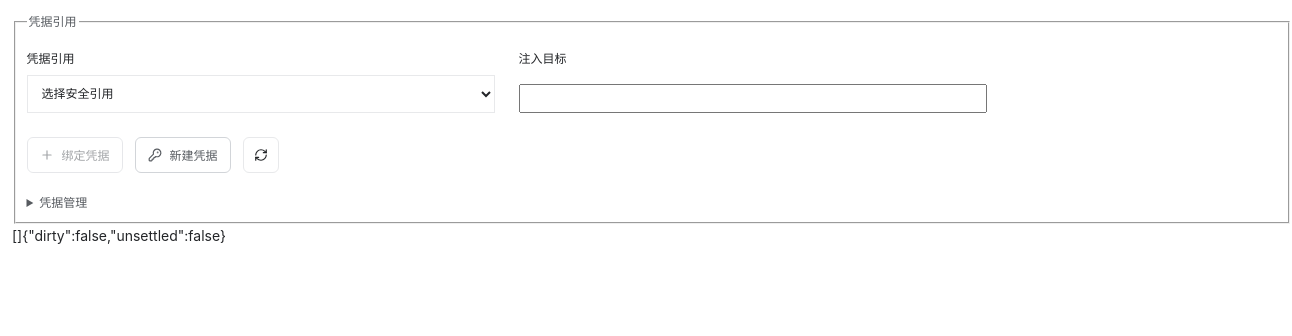
Scenario: safe credential selection and original managed write › binds an exact same-workspace active Ref and explicit destination, then unbinds without revoking
Select "Controlled API credential · active" in the dropdown labelled "凭据引用" at (260,94), box [26,76,494,114]
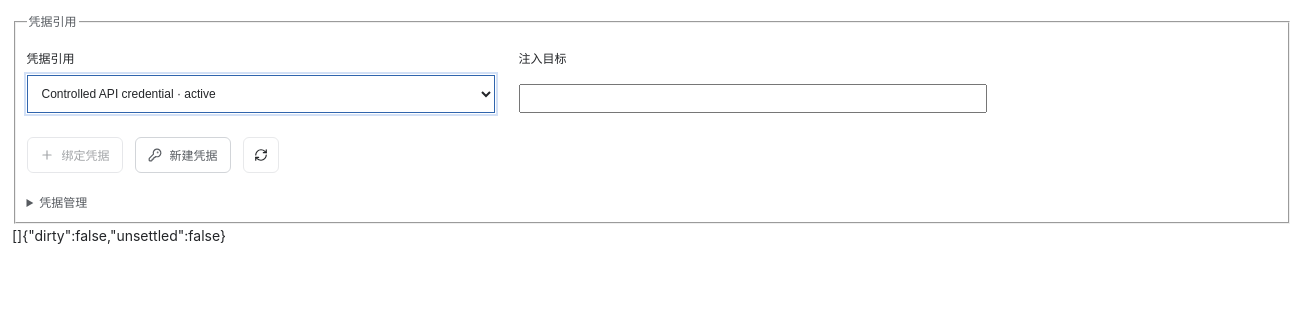
Type "SERVICE_API_KEY" into the field labelled "注入目标".
click(752, 99); type("SERVICE_API_KEY")  # box [518,84,986,114]
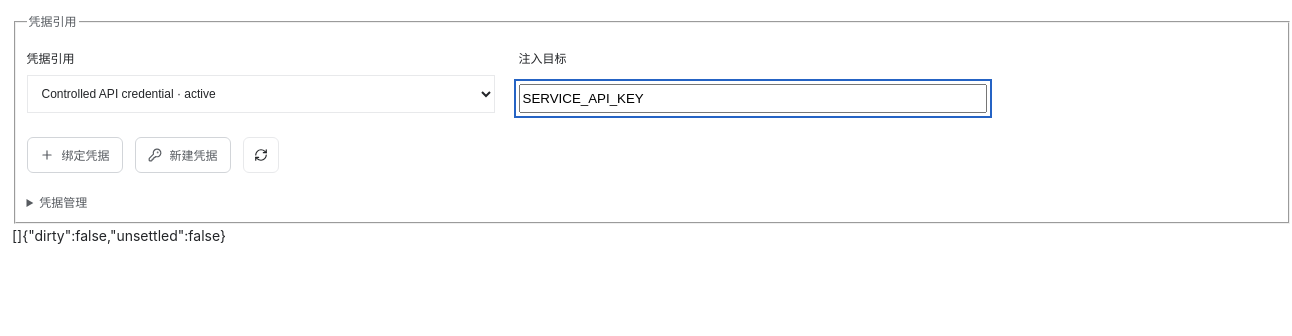
Click the button "绑定凭据".
click(74, 156)  # box [26,138,122,174]
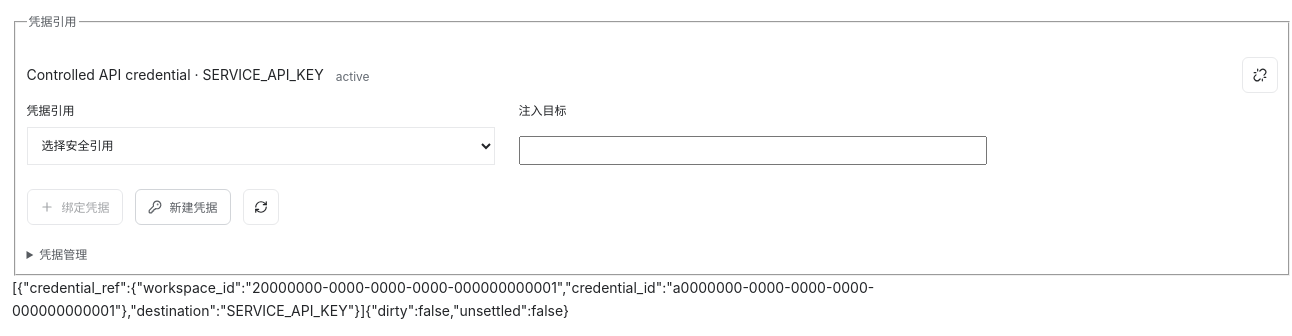
Click the button named "解除 SERVICE_API_KEY 绑定".
click(1260, 75)  # box [1242,57,1278,93]
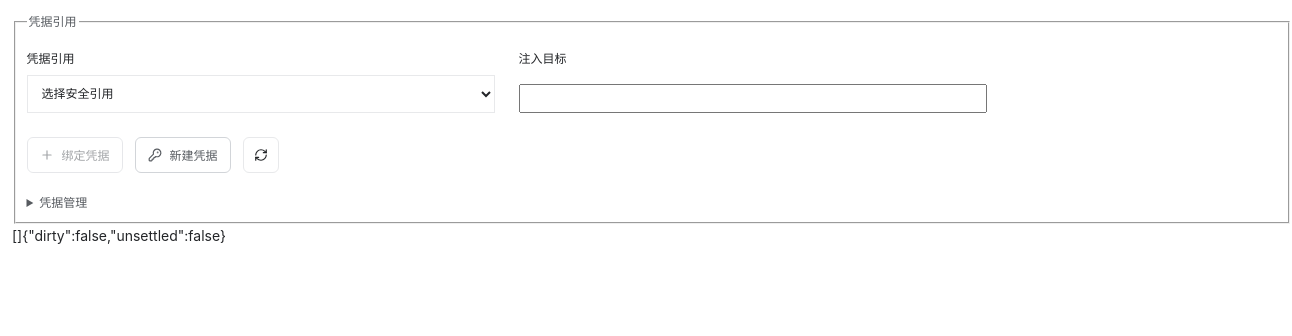
Check: the text named "safe bindings" reads "[]", box [12,227,22,244]
